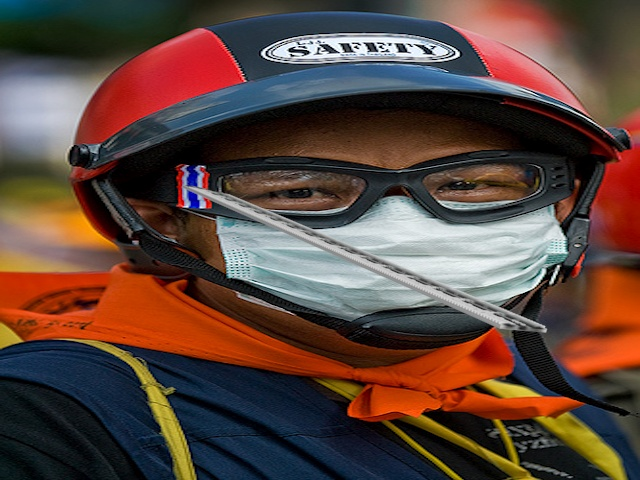ruler: (177, 185, 552, 336)
